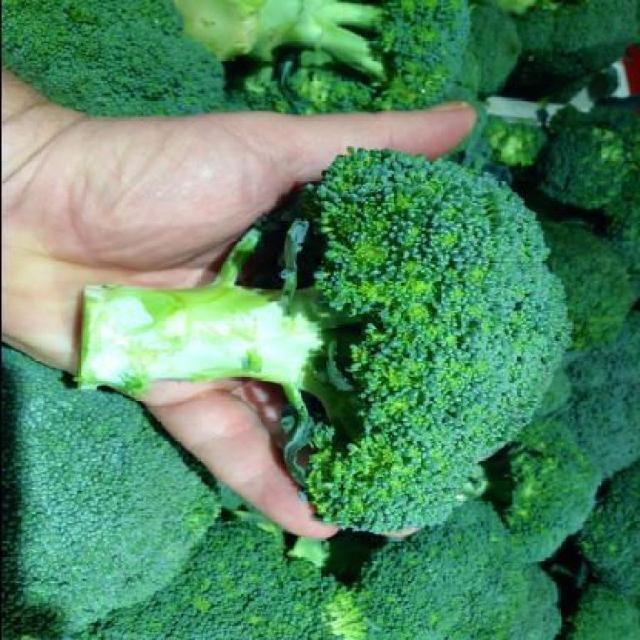Broccoli: (1, 0, 638, 640), (71, 147, 574, 536)
